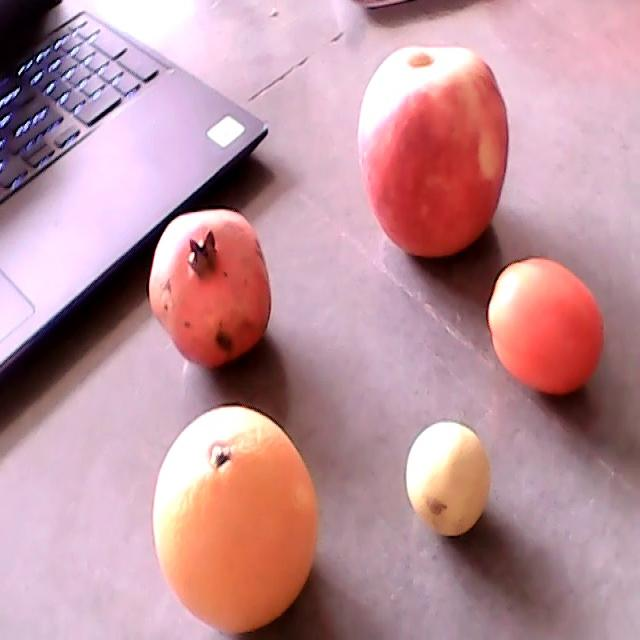apple: (358, 43, 509, 258)
lemon: (407, 419, 491, 531)
orange: (152, 403, 319, 631)
pomegranate: (149, 211, 272, 369)
tomato: (487, 257, 606, 394)
